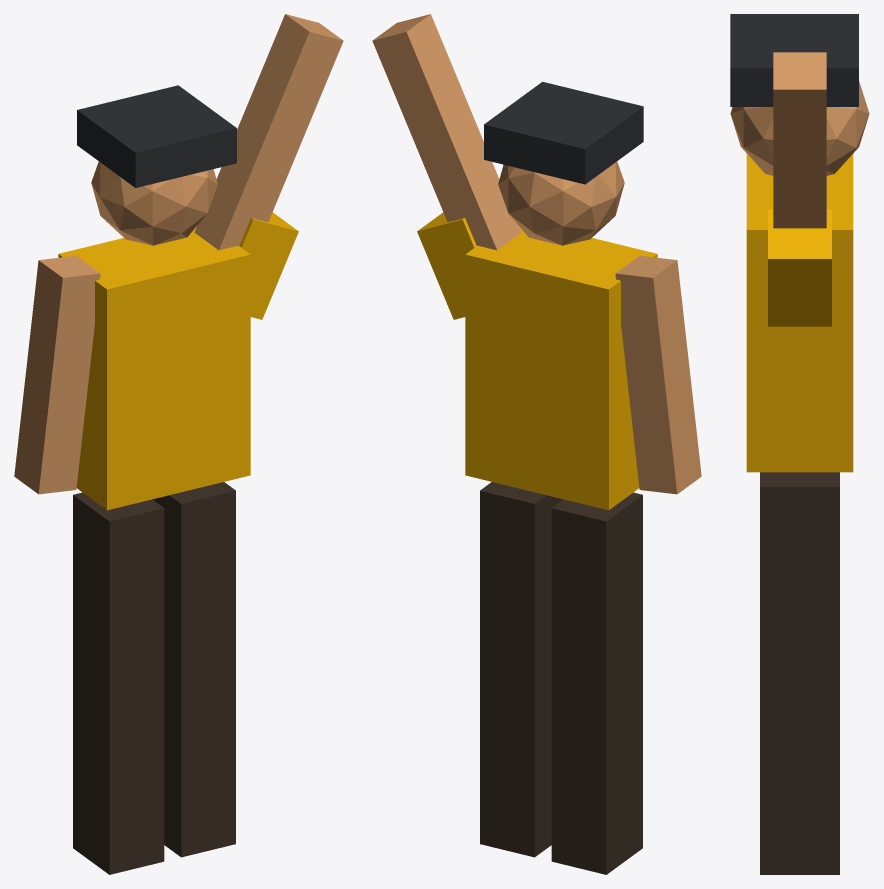
Rendered from person_yellow.fbx.
3 views of the same model, side by side, from view 1: azimuth 30°, elevation 25°; view 2: azimuth 150°, elevation 25°; view 3: azimuth 270°, elevation 25° (orthographic). The views are drawn at different scales.
Parts seen in each view (by area): view 1: M__person_yellow; view 2: M__person_yellow; view 3: M__person_yellow.
Boxes of the visible parts, bbox=[...] form: M__person_yellow: bbox=[14, 14, 343, 874]; M__person_yellow: bbox=[372, 14, 701, 874]; M__person_yellow: bbox=[730, 14, 869, 874].
Bounding box in the file's own units: 0.7227 × 1.78 × 0.26.
